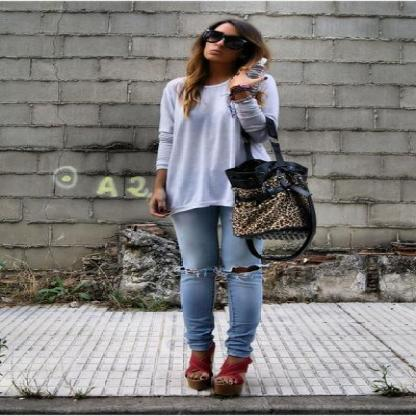bag: (226, 116, 315, 272)
pants: (163, 202, 264, 358)
shirt: (156, 72, 294, 212)
shoe: (185, 358, 252, 392)
sunglass: (200, 20, 235, 41)
